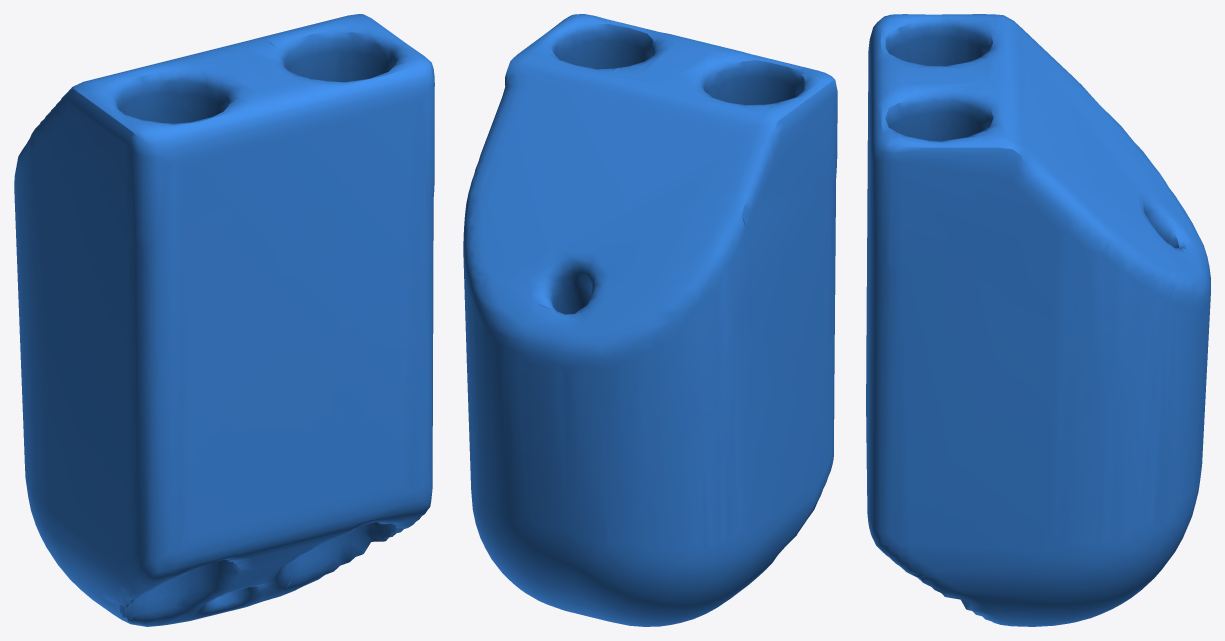
File: left_finger2_upper.glb
3 views of the same model, side by side, from view 1: azimuth 30°, elevation 25°; view 2: azimuth 150°, elevation 25°; view 3: azimuth 270°, elevation 25° (orthographic). The views are drawn at different scales.
Visible parts, largest first — view 1: left_finger2_upper; view 2: left_finger2_upper; view 3: left_finger2_upper.
Boxes of the visible parts, bbox=[...] form: left_finger2_upper: bbox=[14, 14, 434, 626]; left_finger2_upper: bbox=[463, 14, 837, 626]; left_finger2_upper: bbox=[866, 14, 1210, 626].
Size of the model in its own units: 0.0113 by 0.0205 by 0.0122.
Materials: 1 (1 with a texture image).
